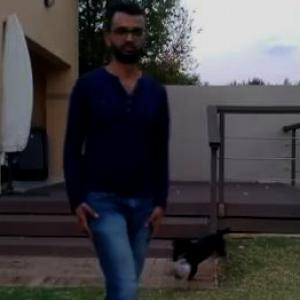follow: (82, 20, 192, 298)
